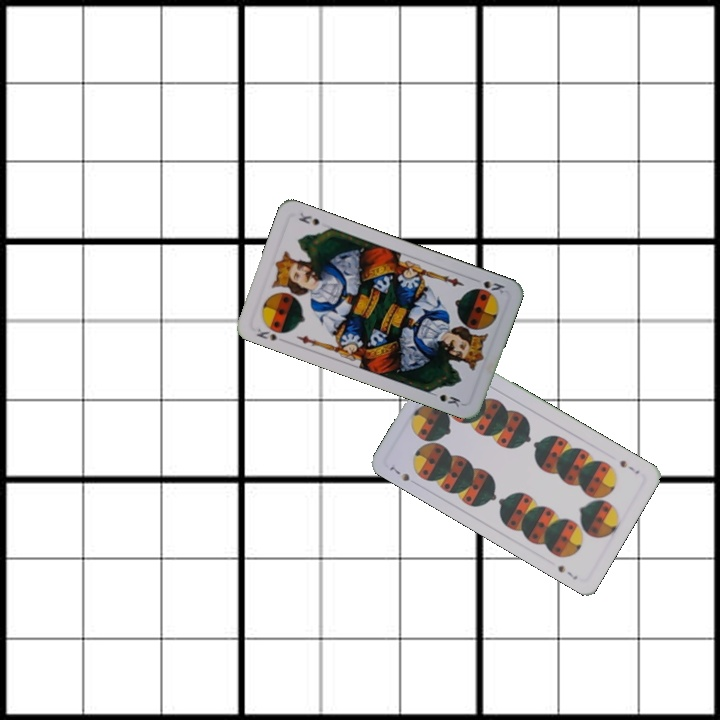S7: (385, 461, 412, 484), (616, 456, 642, 477)
SK: (469, 274, 508, 296), (252, 324, 279, 344)
